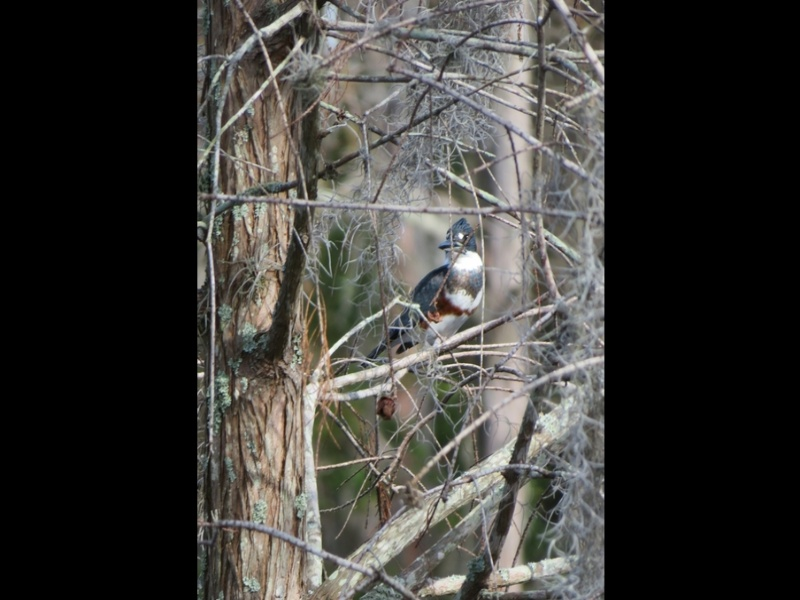kingfisher: (354, 215, 487, 391)
